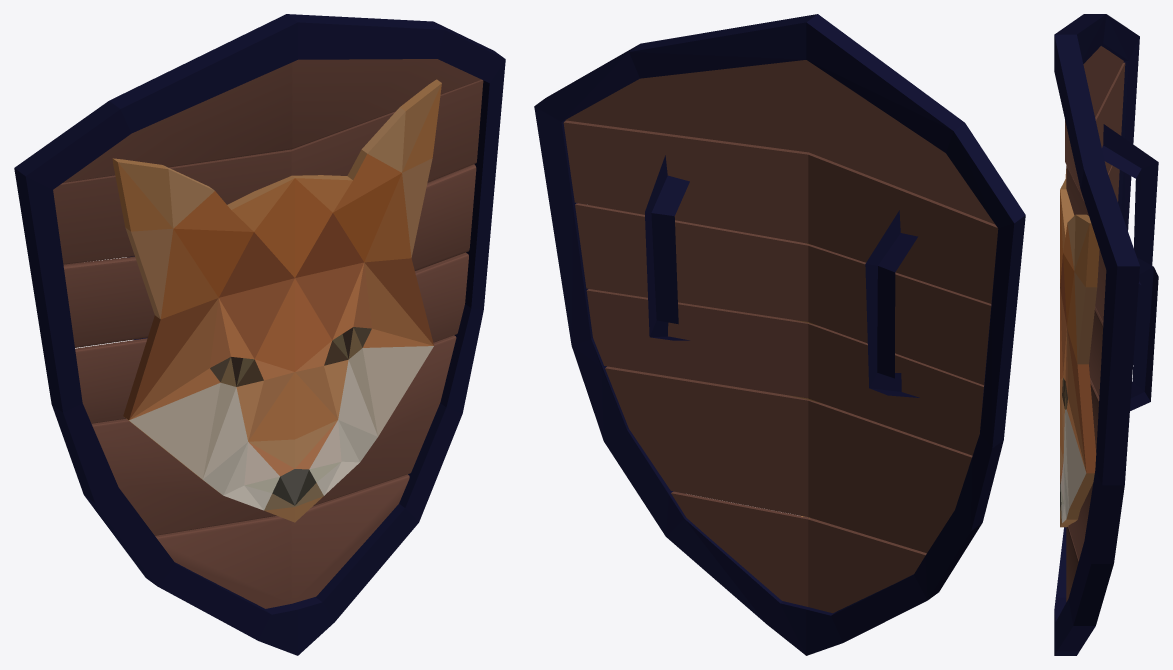
The model's file is Shield.fbx.
The picture shows the model from 3 angles, left to right: view 1: azimuth 30°, elevation 25°; view 2: azimuth 150°, elevation 25°; view 3: azimuth 270°, elevation 25°; orthographic projection.
Visible parts, largest first — view 1: Plane; view 2: Plane; view 3: Plane.
Part boxes in pixels (box(x1,y1,x2,y2)): Plane: box(14, 14, 505, 655); Plane: box(534, 14, 1025, 655); Plane: box(1054, 14, 1158, 655).
Bounding box in the file's own units: 196 × 247 × 37.55.
